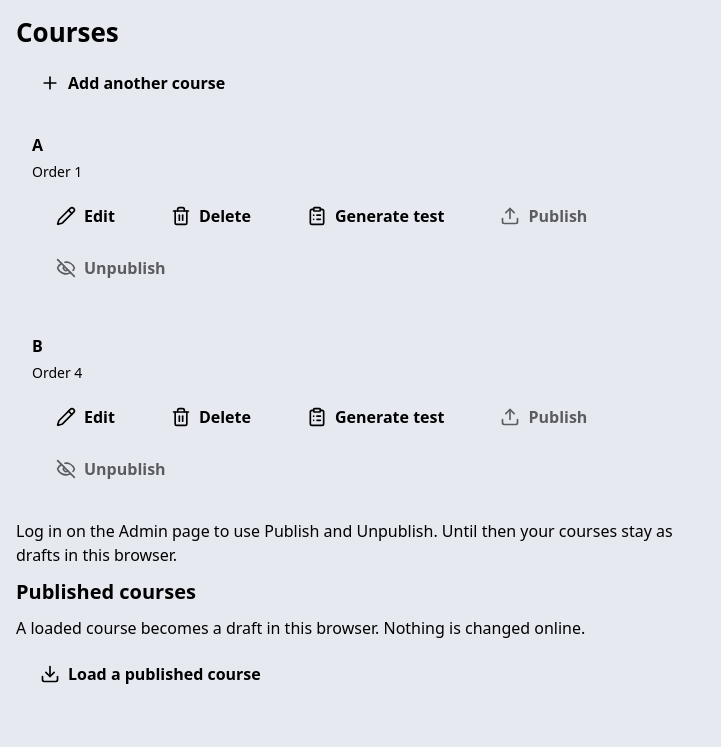
CourseManager add and edit › "Add another course" opens a new form with the next order, and Cancel stores nothing
Later steps or results of the test are not shown.
Expected: the text "A" is shown, [32,134,43,156]
Click the button "Add another course" at (133, 82), box [16,60,249,104]
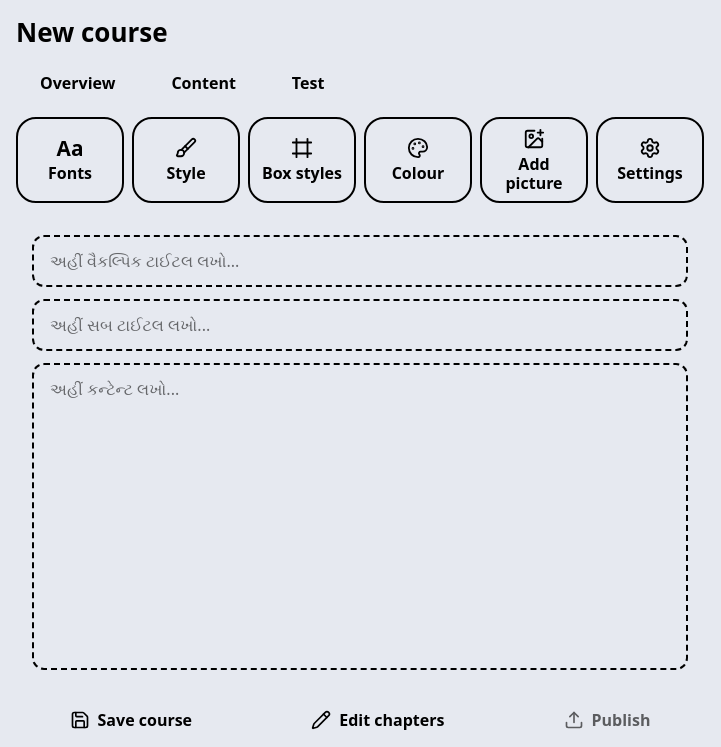
Result: the heading "New course" is shown at [16,14,168,50]
